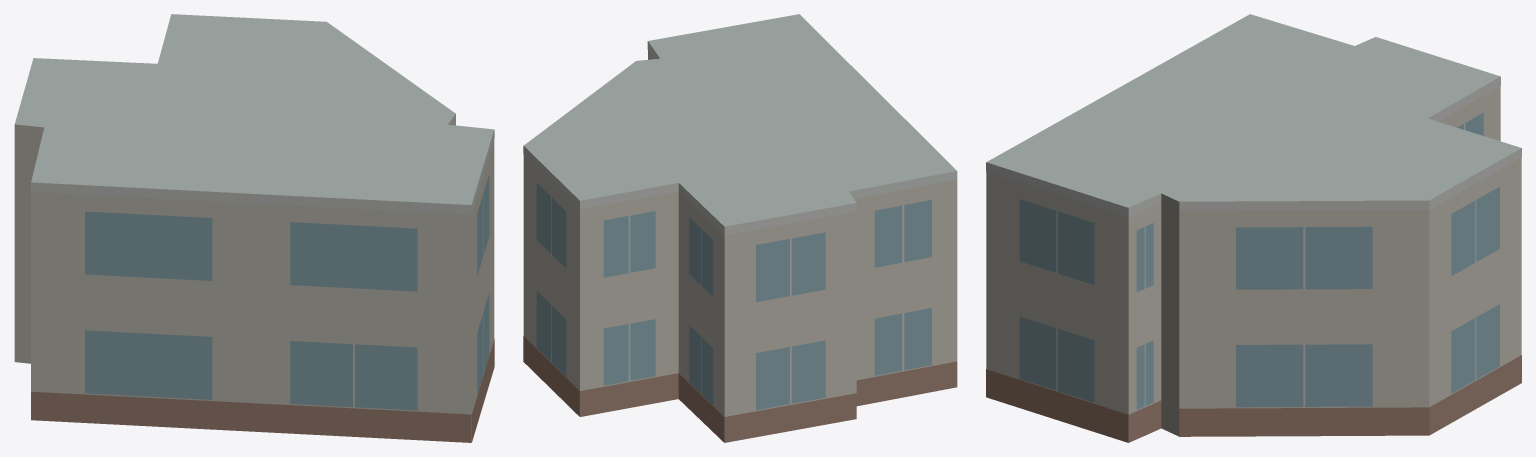
Rendered from survey-upis-32718503.glb.
The picture shows the model from 3 angles, left to right: view 1: azimuth 30°, elevation 25°; view 2: azimuth 150°, elevation 25°; view 3: azimuth 270°, elevation 25°; orthographic projection. The views are drawn at different scales.
Visible parts, largest first — view 1: survey-upis-32718503.tmp; view 2: survey-upis-32718503.tmp; view 3: survey-upis-32718503.tmp.
Boxes of the visible parts, bbox=[...] form: survey-upis-32718503.tmp: bbox=[14, 14, 494, 442]; survey-upis-32718503.tmp: bbox=[523, 14, 957, 442]; survey-upis-32718503.tmp: bbox=[986, 14, 1521, 442].
Bounding box in the file's own units: 10.8 × 6.1 × 12.61.
